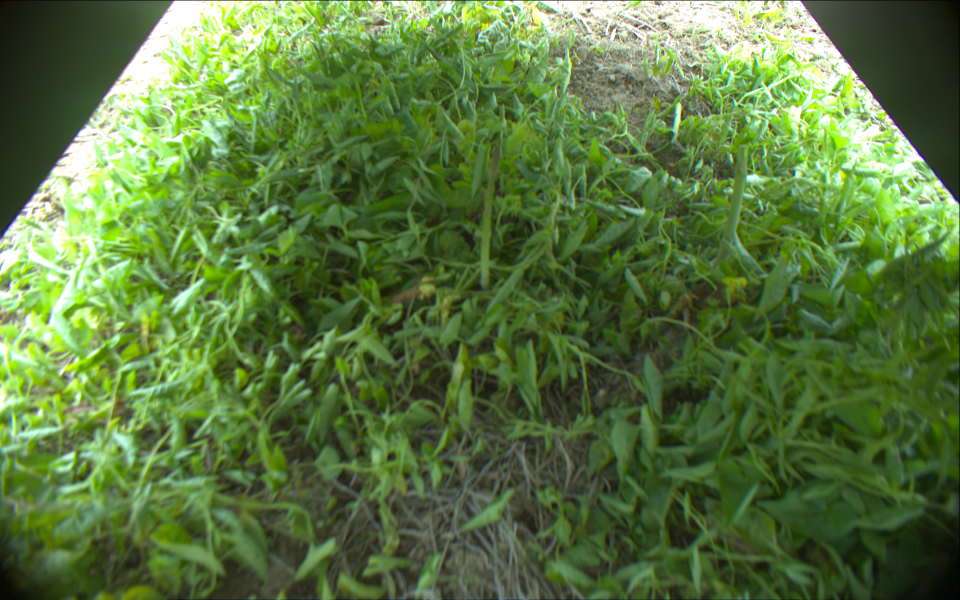aspa: (708, 145, 749, 276), (480, 141, 502, 284)
